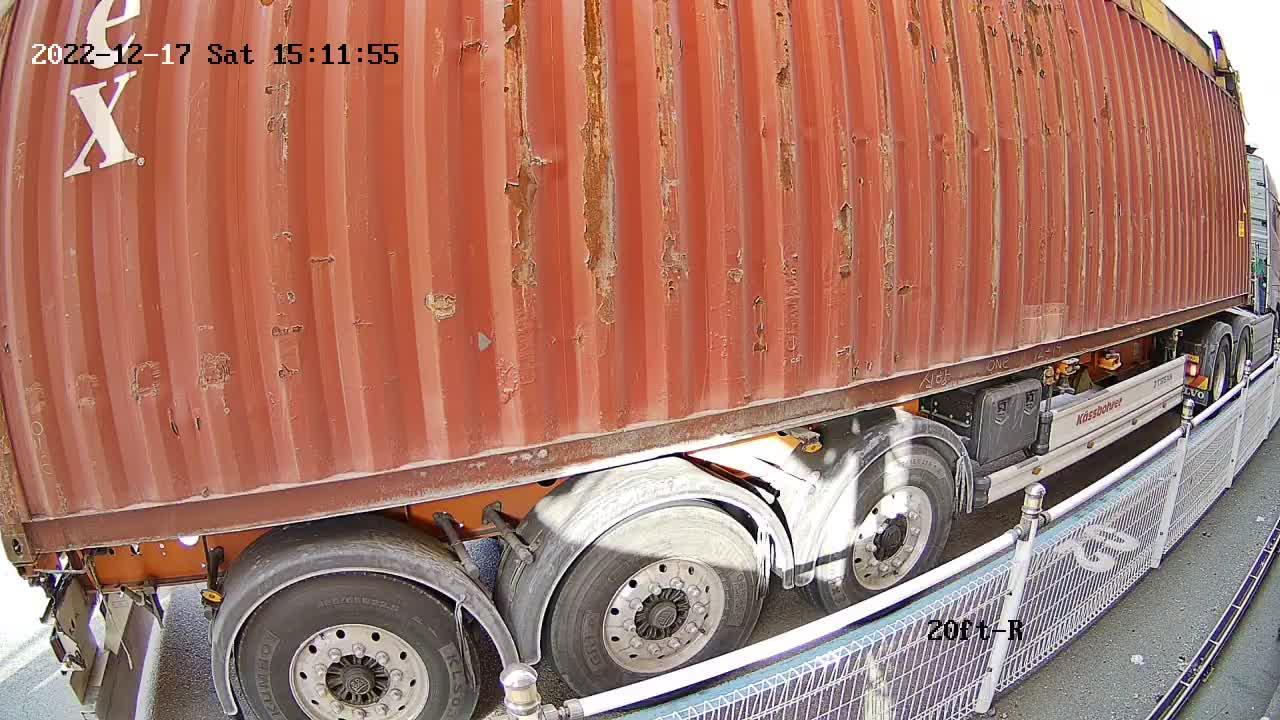Cone: (13, 562, 52, 592)
Hole_L: (0, 476, 86, 564)
Tire: (547, 510, 762, 688), (240, 576, 479, 714), (816, 447, 953, 609)
